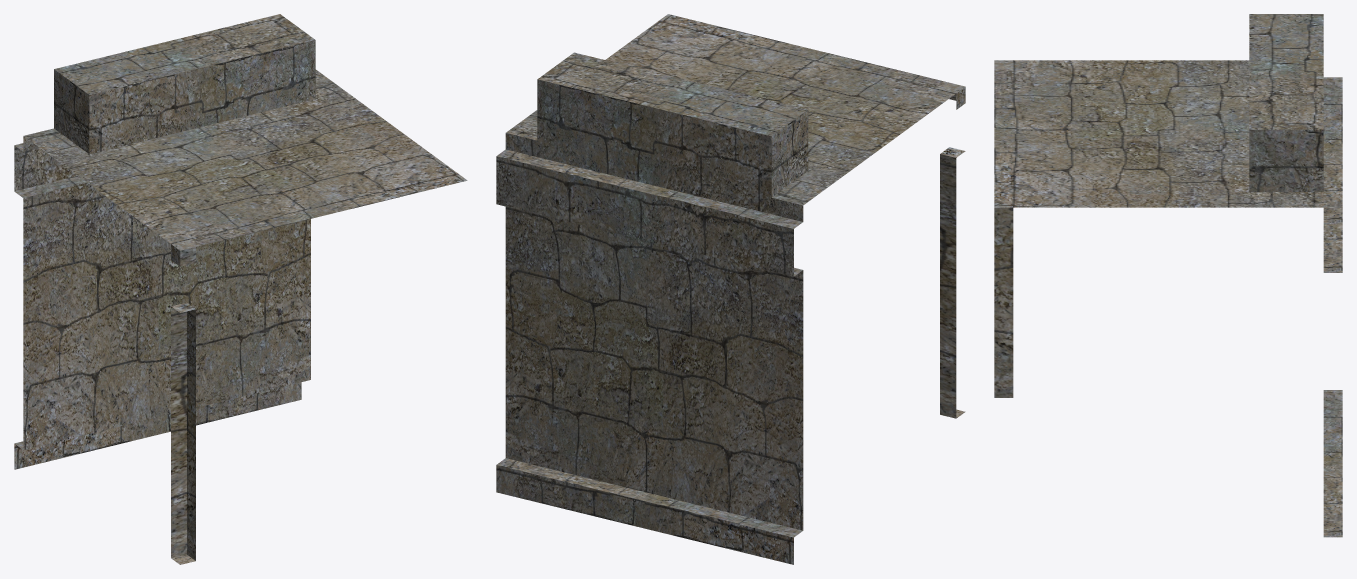
Rendered from Section8.FBX.
The picture shows the model from 3 angles, left to right: view 1: azimuth 30°, elevation 25°; view 2: azimuth 150°, elevation 25°; view 3: azimuth 270°, elevation 25°; orthographic projection. The views are drawn at different scales.
Visible parts, largest first — view 1: ClaimedCo101N-SW001; view 2: ClaimedCo101N-SW001; view 3: ClaimedCo101N-SW001.
Boxes of the visible parts, bbox=[...] form: ClaimedCo101N-SW001: bbox=[14, 14, 467, 564]; ClaimedCo101N-SW001: bbox=[496, 14, 965, 564]; ClaimedCo101N-SW001: bbox=[994, 14, 1342, 537].
Size of the model in its own units: 100 by 133 by 100.
